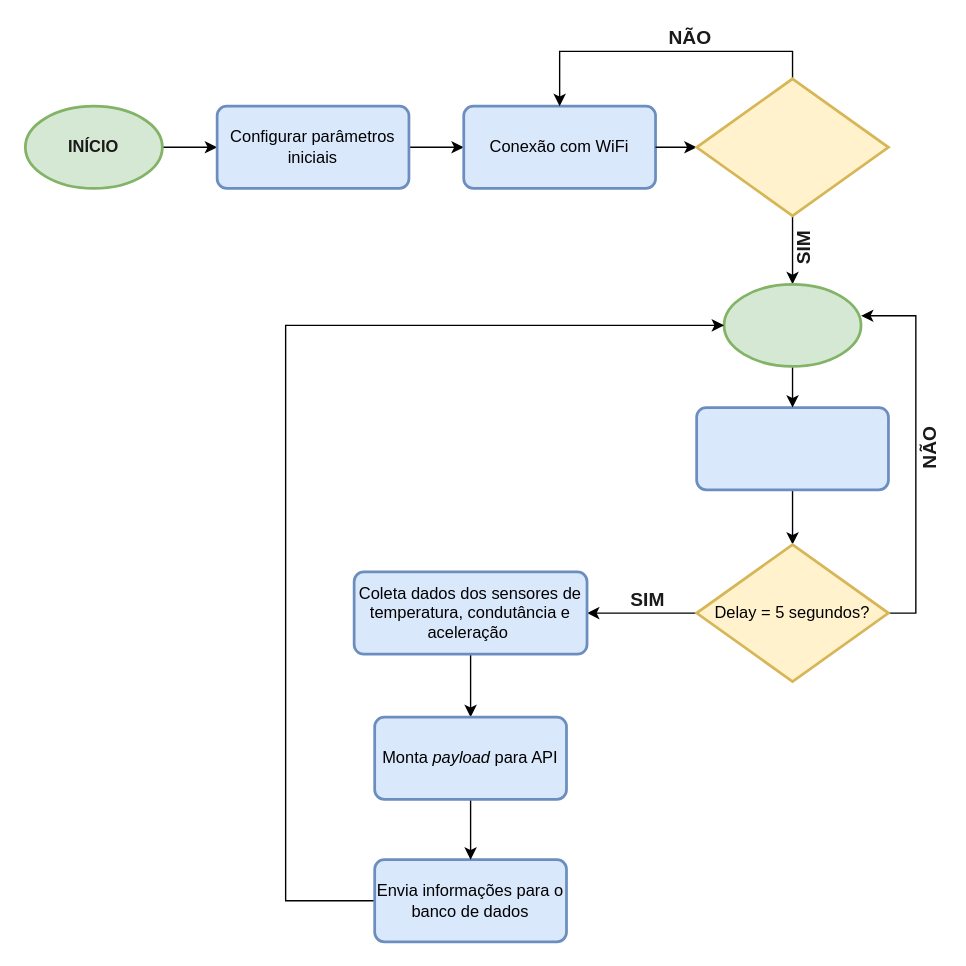
This 966x966 diagram has some shape labels left out. Here are the shapes that lost their labels. From the top down, the centre of each, then its label:
At [792,146]: "WiFi conectado?".
At [792,324]: "FUNÇÃO LOOP".
At [792,448]: "Coleta dados de ECG e calcula BPM".
